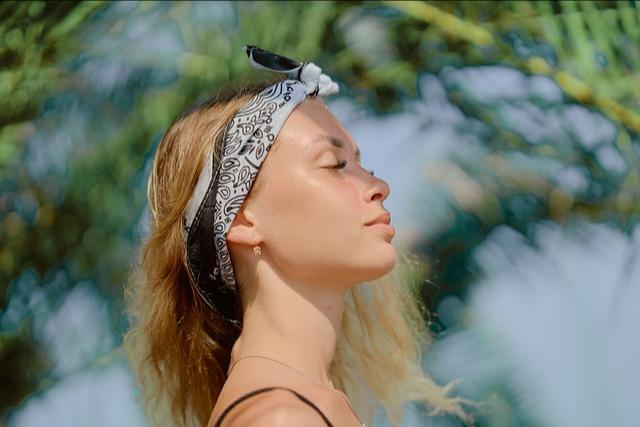Non_Gorille: (114, 40, 484, 427)
